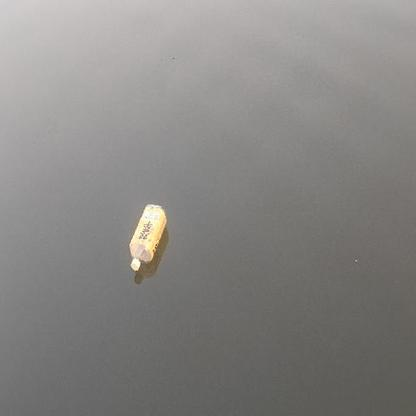plastic bottle: (130, 204, 166, 270)
